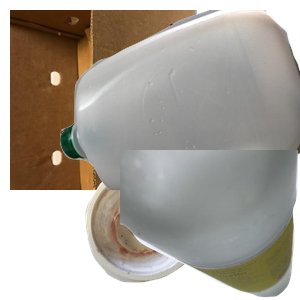cardboard: (10, 10, 211, 190)
glass: (120, 150, 300, 300)
plastic: (60, 10, 300, 190)
trash: (83, 163, 276, 300)
